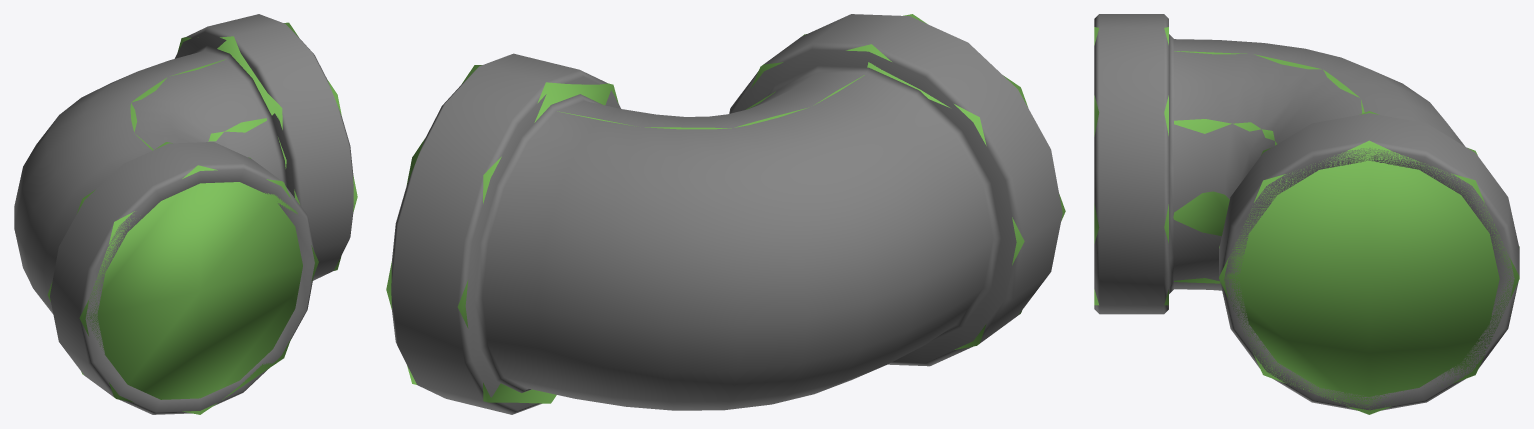
Rendered from PipeSetElbow_01_Mesh.fbx.
3 views of the same model, side by side, from view 1: azimuth 30°, elevation 25°; view 2: azimuth 150°, elevation 25°; view 3: azimuth 270°, elevation 25° (orthographic). The views are drawn at different scales.
Parts seen in each view (by area): view 1: PipeSet_Elbow_01_LOD0, PipeSet_Elbow_01_Col; view 2: PipeSet_Elbow_01_LOD0, PipeSet_Elbow_01_Col; view 3: PipeSet_Elbow_01_LOD0, PipeSet_Elbow_01_Col.
Part boxes in pixels (<box>): PipeSet_Elbow_01_LOD0: <box>14,14,353,414</box>; PipeSet_Elbow_01_Col: <box>47,22,357,414</box>; PipeSet_Elbow_01_LOD0: <box>391,14,1062,414</box>; PipeSet_Elbow_01_Col: <box>386,14,1065,403</box>; PipeSet_Elbow_01_LOD0: <box>1094,14,1519,410</box>; PipeSet_Elbow_01_Col: <box>1094,27,1519,414</box>.
Size of what is drawn, in the model's own units: 8.42 by 6 by 8.5.
